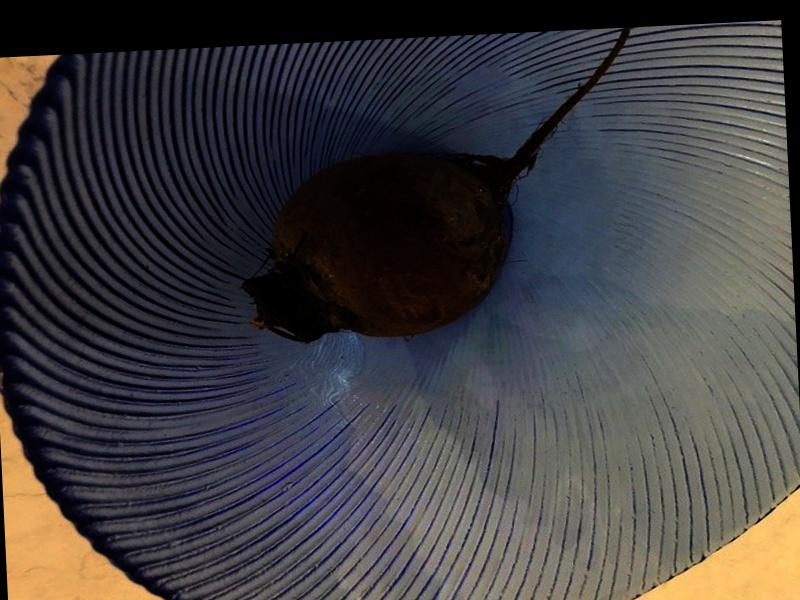Beet: (232, 27, 642, 343)
